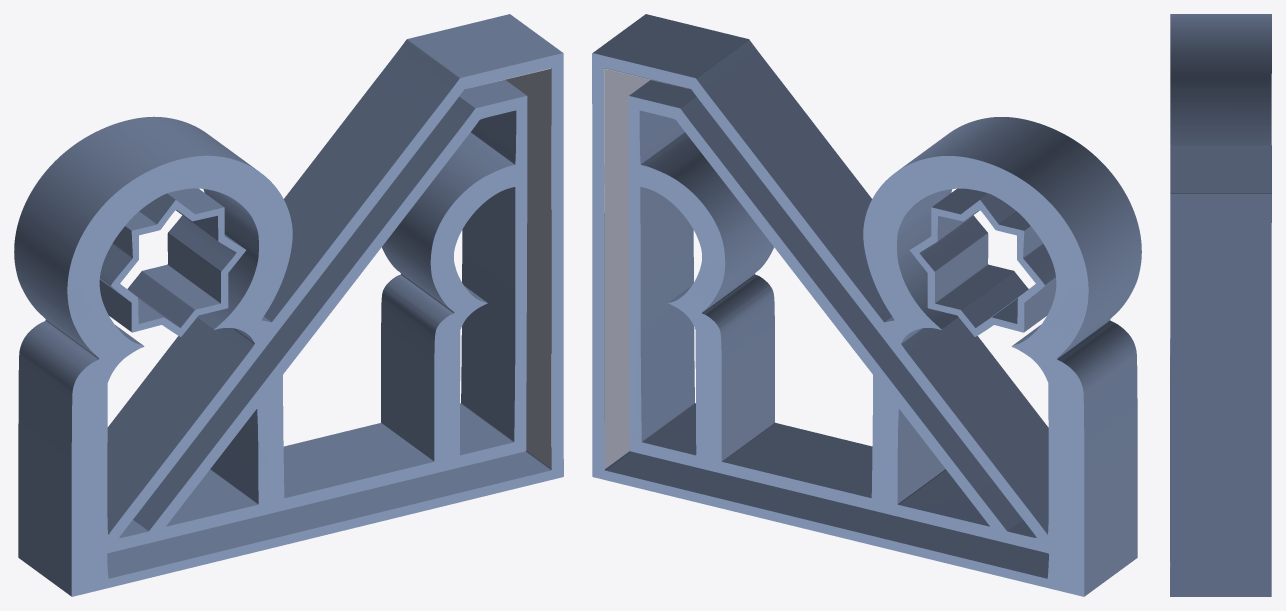
The picture shows the model from 3 angles, left to right: view 1: azimuth 30°, elevation 25°; view 2: azimuth 150°, elevation 25°; view 3: azimuth 270°, elevation 25°; orthographic projection. The views are drawn at different scales.
Visible parts, largest first — view 1: Node1, Node2, Node3; view 2: Node1, Node2, Node3; view 3: Node1.
Part boxes in pixels (<box>): Node1: <box>14,14,563,596</box>; Node2: <box>99,188,246,336</box>; Node3: <box>465,68,551,468</box>; Node1: <box>592,14,1141,596</box>; Node2: <box>909,188,1056,336</box>; Node3: <box>604,68,689,468</box>; Node1: <box>1170,14,1271,596</box>.
Bounding box in the file's own units: 1.45 × 1.19 × 0.2706.
